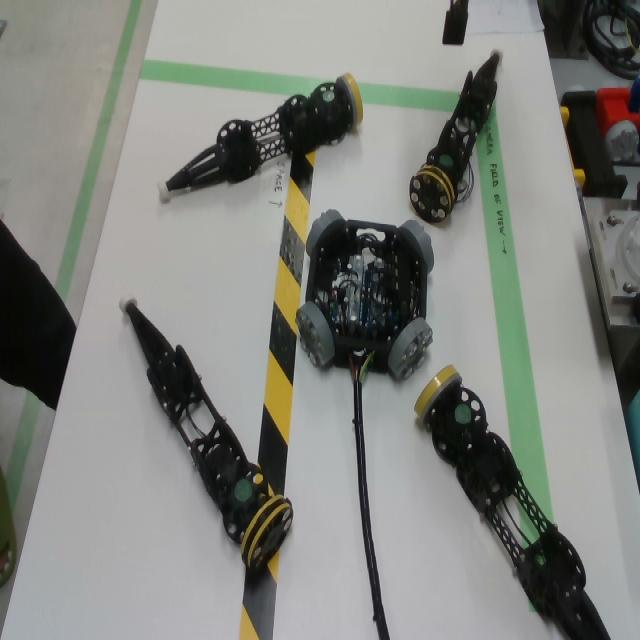body: (305, 220, 428, 373)
body_connector: (388, 317, 434, 381), (295, 301, 335, 368), (398, 220, 435, 275), (306, 209, 346, 256)
leg: (414, 364, 612, 640), (119, 292, 294, 572), (156, 71, 364, 204), (409, 47, 503, 224)
leg_connector: (241, 495, 294, 569), (414, 364, 463, 425), (409, 164, 455, 224), (335, 72, 363, 132)
leg_marker: (234, 477, 253, 503), (454, 404, 471, 425), (440, 155, 454, 167), (322, 91, 335, 103)
